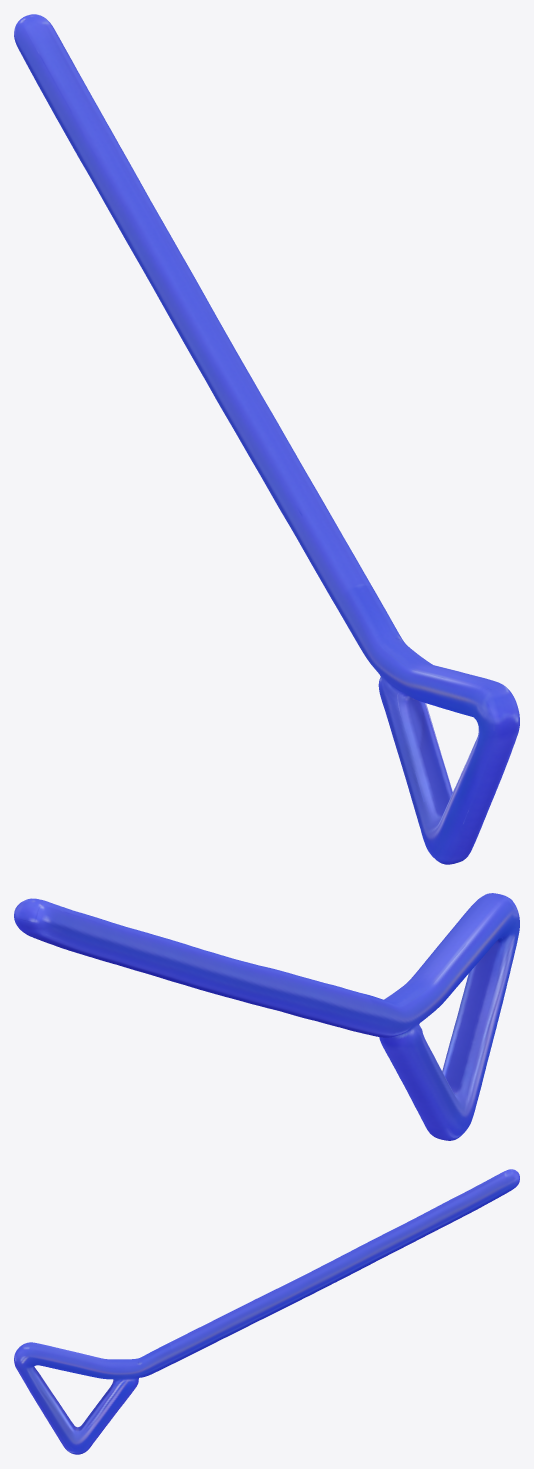
File: base_basic_shaded.fbx
3 renders of one model, top to bottom at view 1: azimuth 30°, elevation 25°; view 2: azimuth 150°, elevation 25°; view 3: azimuth 270°, elevation 25°, orthographic. The views are drawn at different scales.
Parts seen in each view (by area): view 1: model; view 2: model; view 3: model.
Boxes of the visible parts, x1,y1,x2,y2 form: model: (14, 14, 519, 864); model: (14, 893, 519, 1140); model: (14, 1169, 519, 1454).
Bounding box in the file's own units: 8.8 × 118 × 191.
